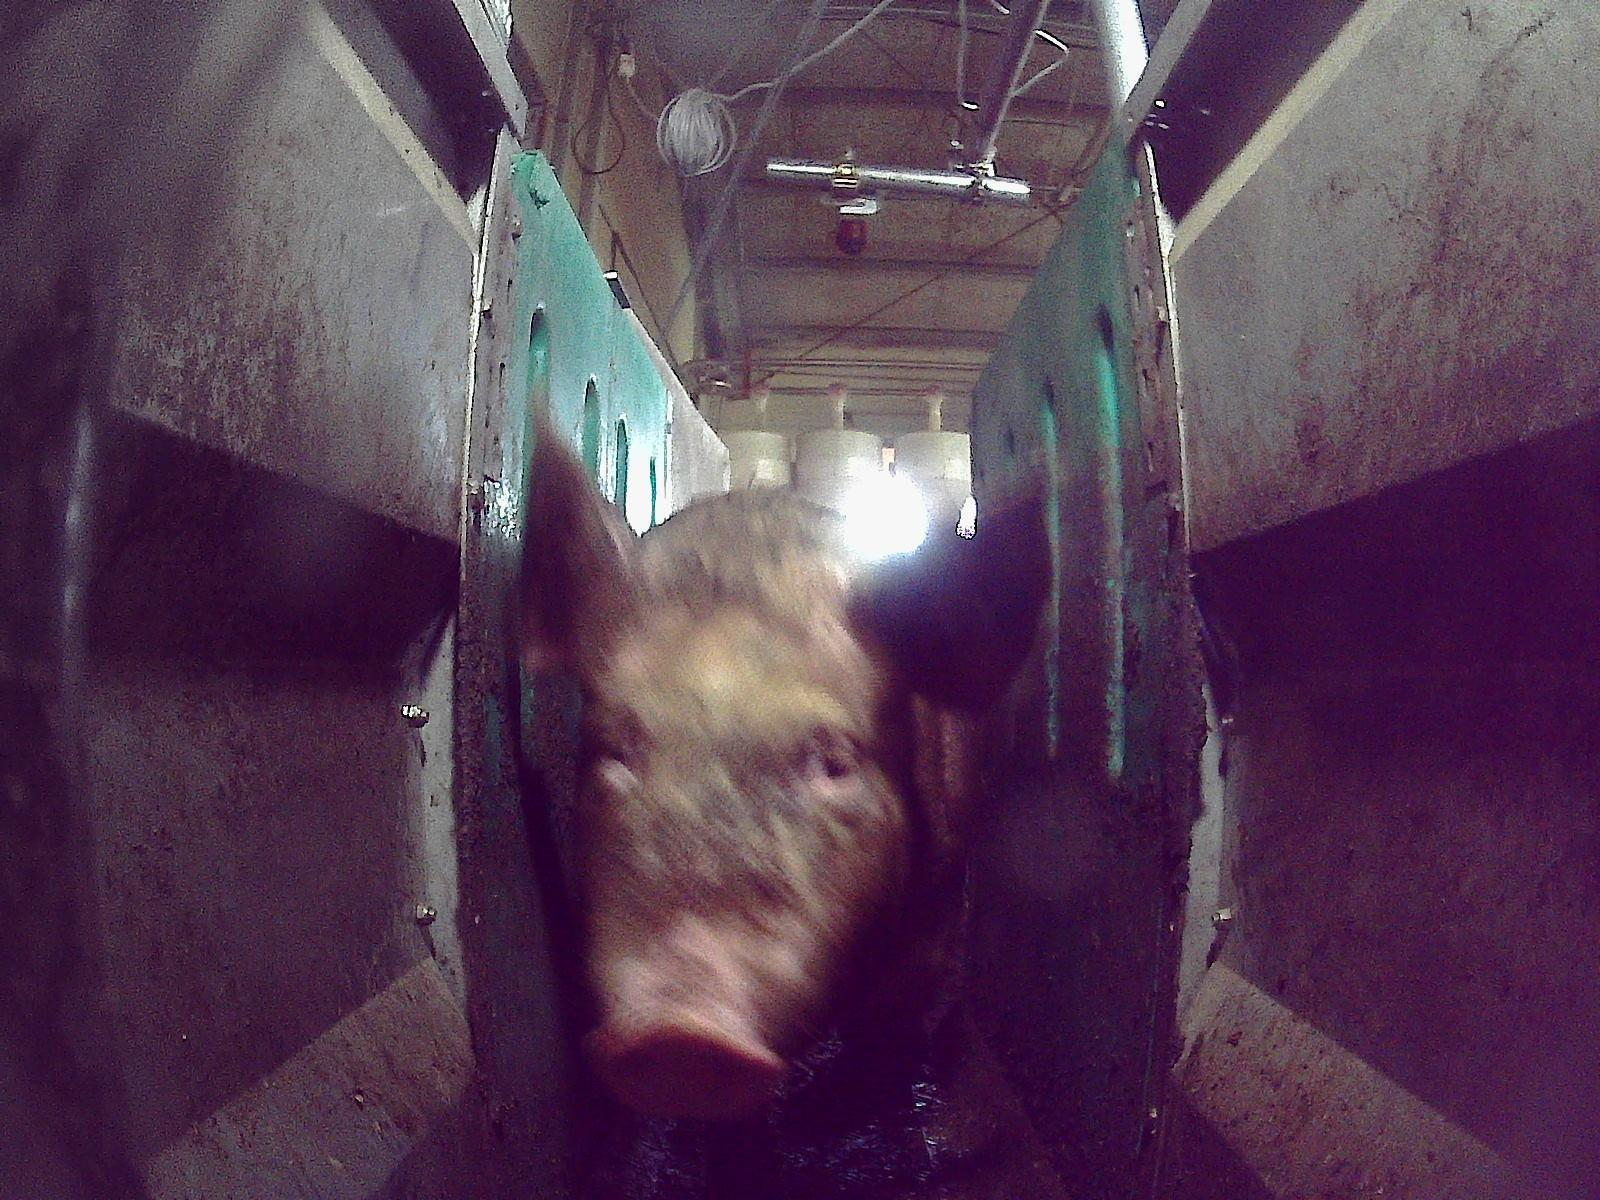Face: (567, 588, 916, 1117)
